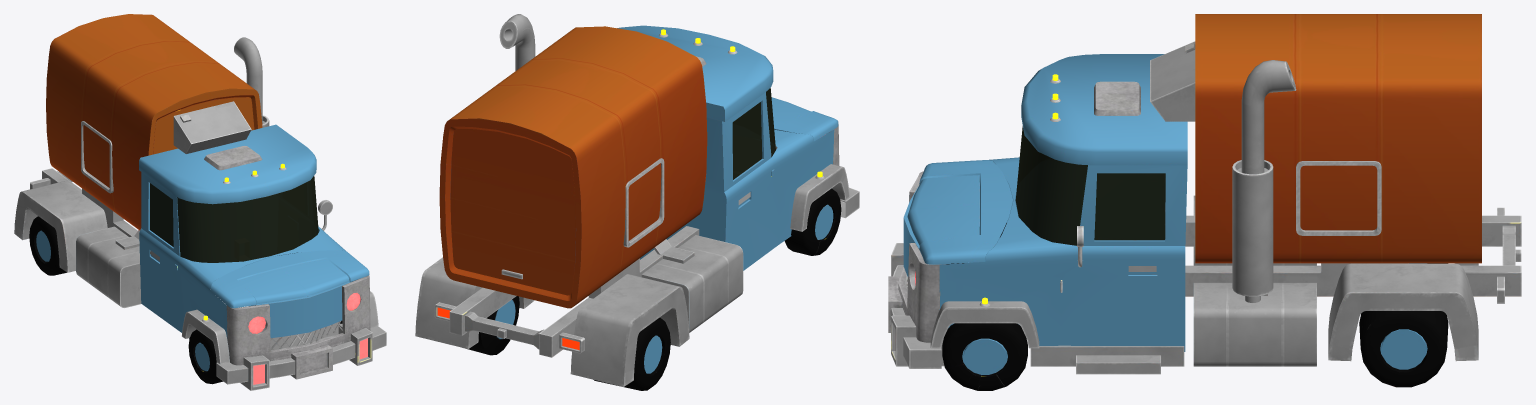
File: truck.glb
3 views of the same model, side by side, from view 1: azimuth 30°, elevation 25°; view 2: azimuth 150°, elevation 25°; view 3: azimuth 270°, elevation 25° (orthographic). The views are drawn at different scales.
Visible parts, largest first — view 1: Cube.001_low, Cube.009_low, Cube.008_low, Cube.007_low, Cube.011_low, Cube.013_low, Plane_low, Cube.002_low, Cube_low, Cube.005_low, Cube.012_low, Plane.001_low (+9 smaller); view 2: Cube.001_low, Cube.009_low, Plane_low, Cube.002_low, Cube.007_low, Cube.003_low, Cylinder.001_low, Cylinder_low, Plane.001_low, Cube.011_low, Cylinder.002_low, Cube.019_low (+1 smaller); view 3: Cube.001_low, Cube.009_low, Cube.007_low, Cube.002_low, Plane_low, Cube.011_low, Cylinder.002_low, Cube.003_low, Cylinder.001_low, Cube.008_low, Cylinder_low, Cube.016_low (+7 smaller).
Boxes of the visible parts, x1,y1,x2,y2 form: Cube.001_low: (46, 14, 262, 230); Cube.009_low: (139, 172, 357, 338); Cube.008_low: (177, 176, 318, 262); Cube.007_low: (139, 124, 316, 204); Cube.011_low: (210, 250, 369, 308); Cube.013_low: (226, 275, 370, 365); Plane_low: (14, 181, 107, 272); Cube.002_low: (76, 226, 141, 307); Cube_low: (216, 323, 386, 390); Cube.005_low: (173, 101, 251, 153); Cube.012_low: (249, 281, 350, 338); Plane.001_low: (182, 291, 378, 364); Cube.001_low: (439, 26, 707, 308); Cube.009_low: (640, 92, 834, 270); Plane_low: (415, 257, 689, 386); Cube.002_low: (641, 235, 743, 332); Cube.007_low: (617, 25, 773, 121); Cube.003_low: (434, 226, 699, 357); Cylinder.001_low: (466, 296, 670, 390); Cylinder_low: (784, 188, 841, 255); Plane.001_low: (790, 164, 849, 231); Cube.011_low: (771, 97, 838, 141); Cylinder.002_low: (499, 14, 535, 70); Cube.019_low: (623, 158, 664, 247); Cube.001_low: (1195, 14, 1481, 263); Cube.009_low: (939, 157, 1187, 351); Cube.007_low: (1021, 54, 1187, 165); Cube.002_low: (1193, 195, 1316, 366); Plane_low: (1328, 263, 1478, 361); Cube.011_low: (907, 160, 1012, 264); Cylinder.002_low: (1232, 60, 1296, 302); Cube.003_low: (1185, 207, 1521, 303); Cylinder.001_low: (1359, 263, 1448, 387); Cube.008_low: (1015, 126, 1087, 245); Cylinder_low: (942, 223, 1027, 390); Cube.016_low: (1030, 345, 1184, 374).
Bounding box in the file's own units: 353 × 442 × 778.
Materials: 1 (1 with a texture image).
